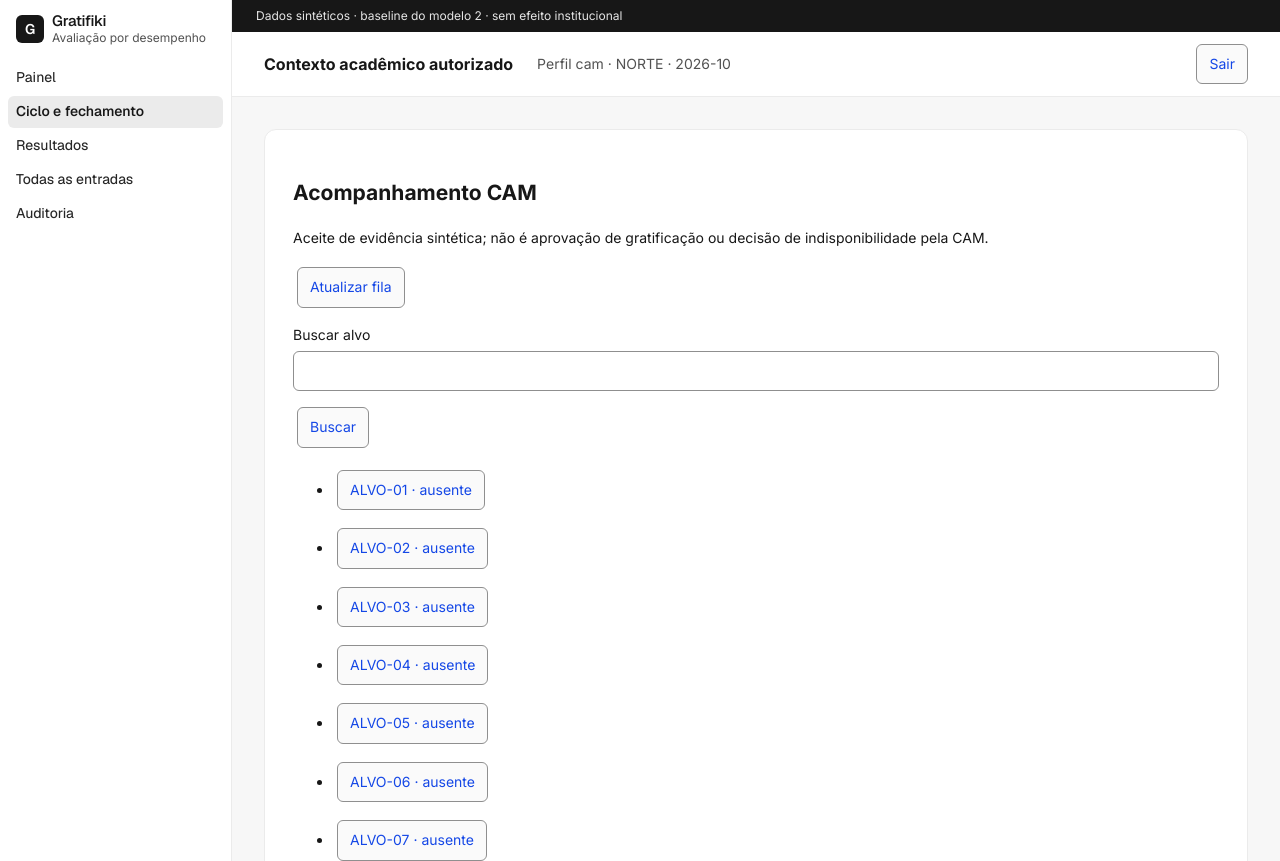
Test case: searches the authorized queue on the server instead of filtering only the loaded page
Expected: the button "ALVO-01 · ausente" is shown, [337, 470, 485, 510]
Type "ALVO-30" into the search field labelled "Buscar alvo".
click(756, 371); type("ALVO-30")  # box [293, 351, 1219, 391]
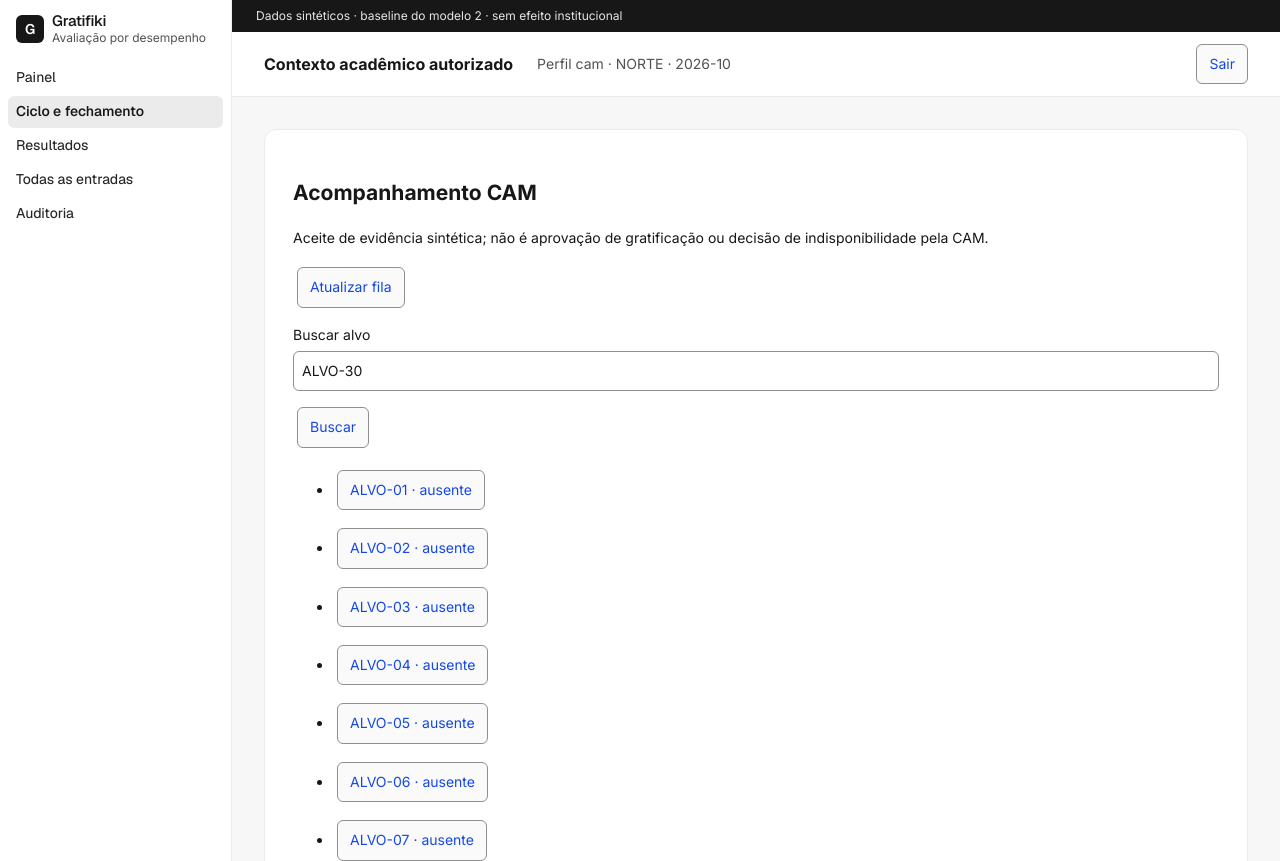
Click the button "Buscar".
click(333, 428)  # box [297, 407, 369, 448]
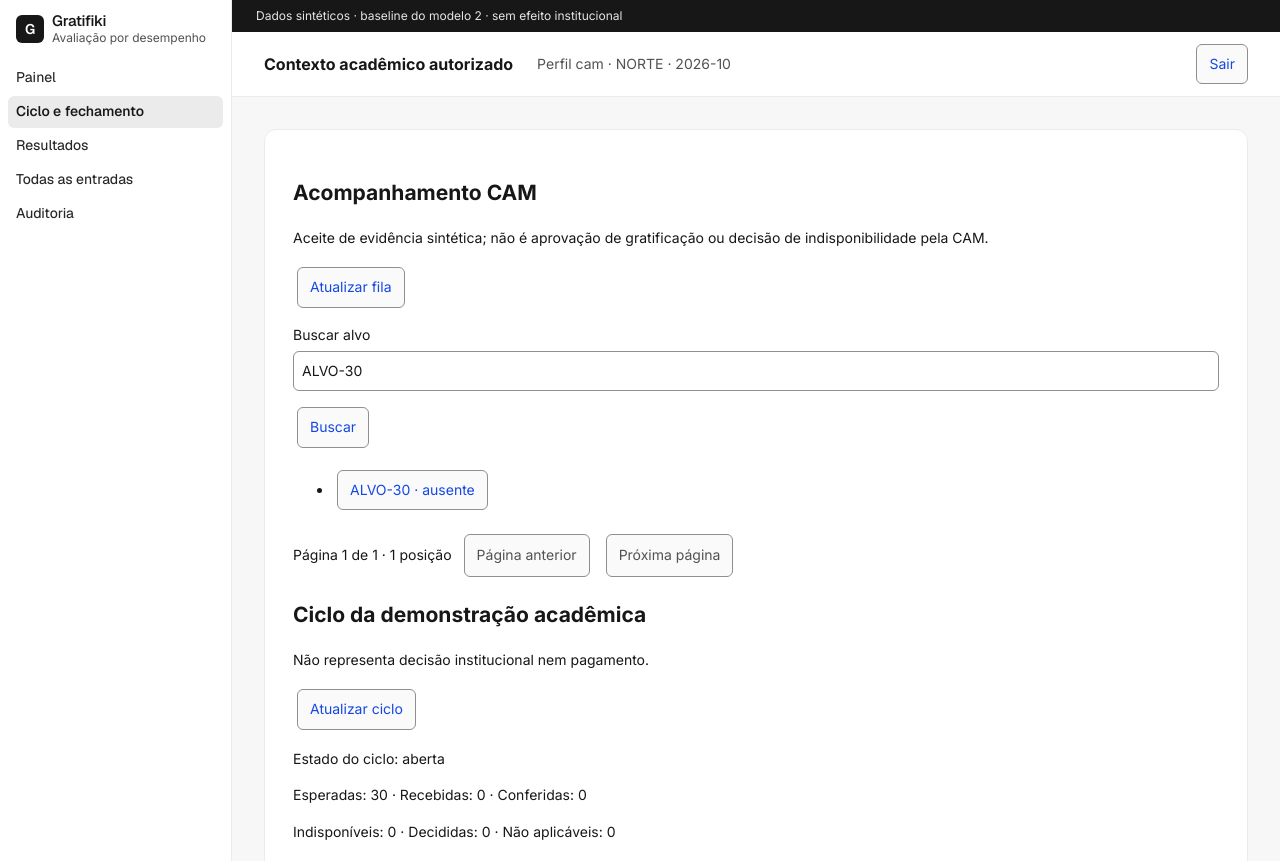
Expected: the button "ALVO-30 · ausente" is shown, [337, 470, 488, 510]
